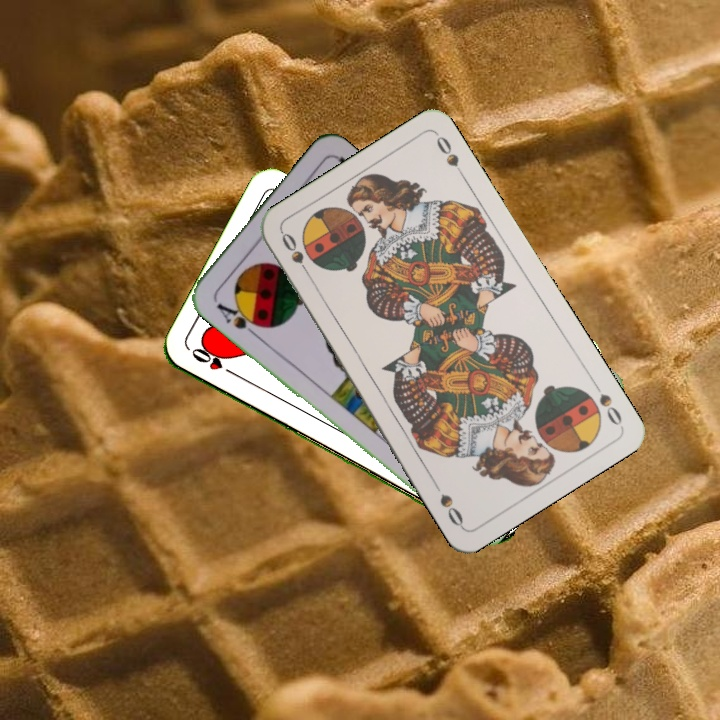HO: (187, 344, 241, 379)
SA: (212, 299, 266, 340)
SO: (277, 228, 315, 282), (588, 376, 625, 429)
